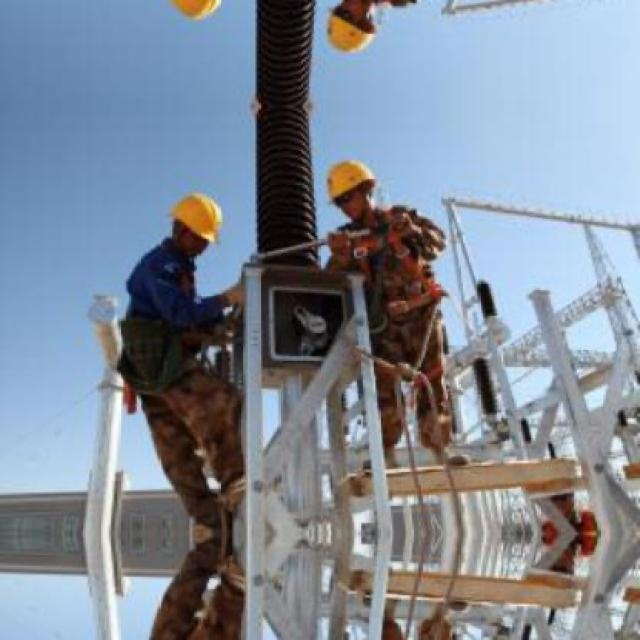Arnes_seguridad: (338, 208, 445, 387), (129, 247, 207, 389)
